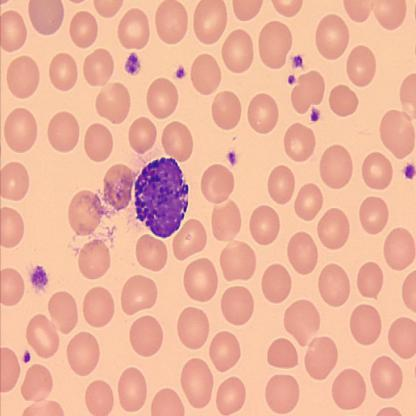Basophil: (132, 154, 191, 240)
